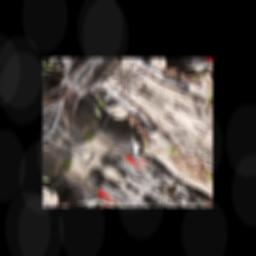Woodpecker: (66, 81, 184, 180)
